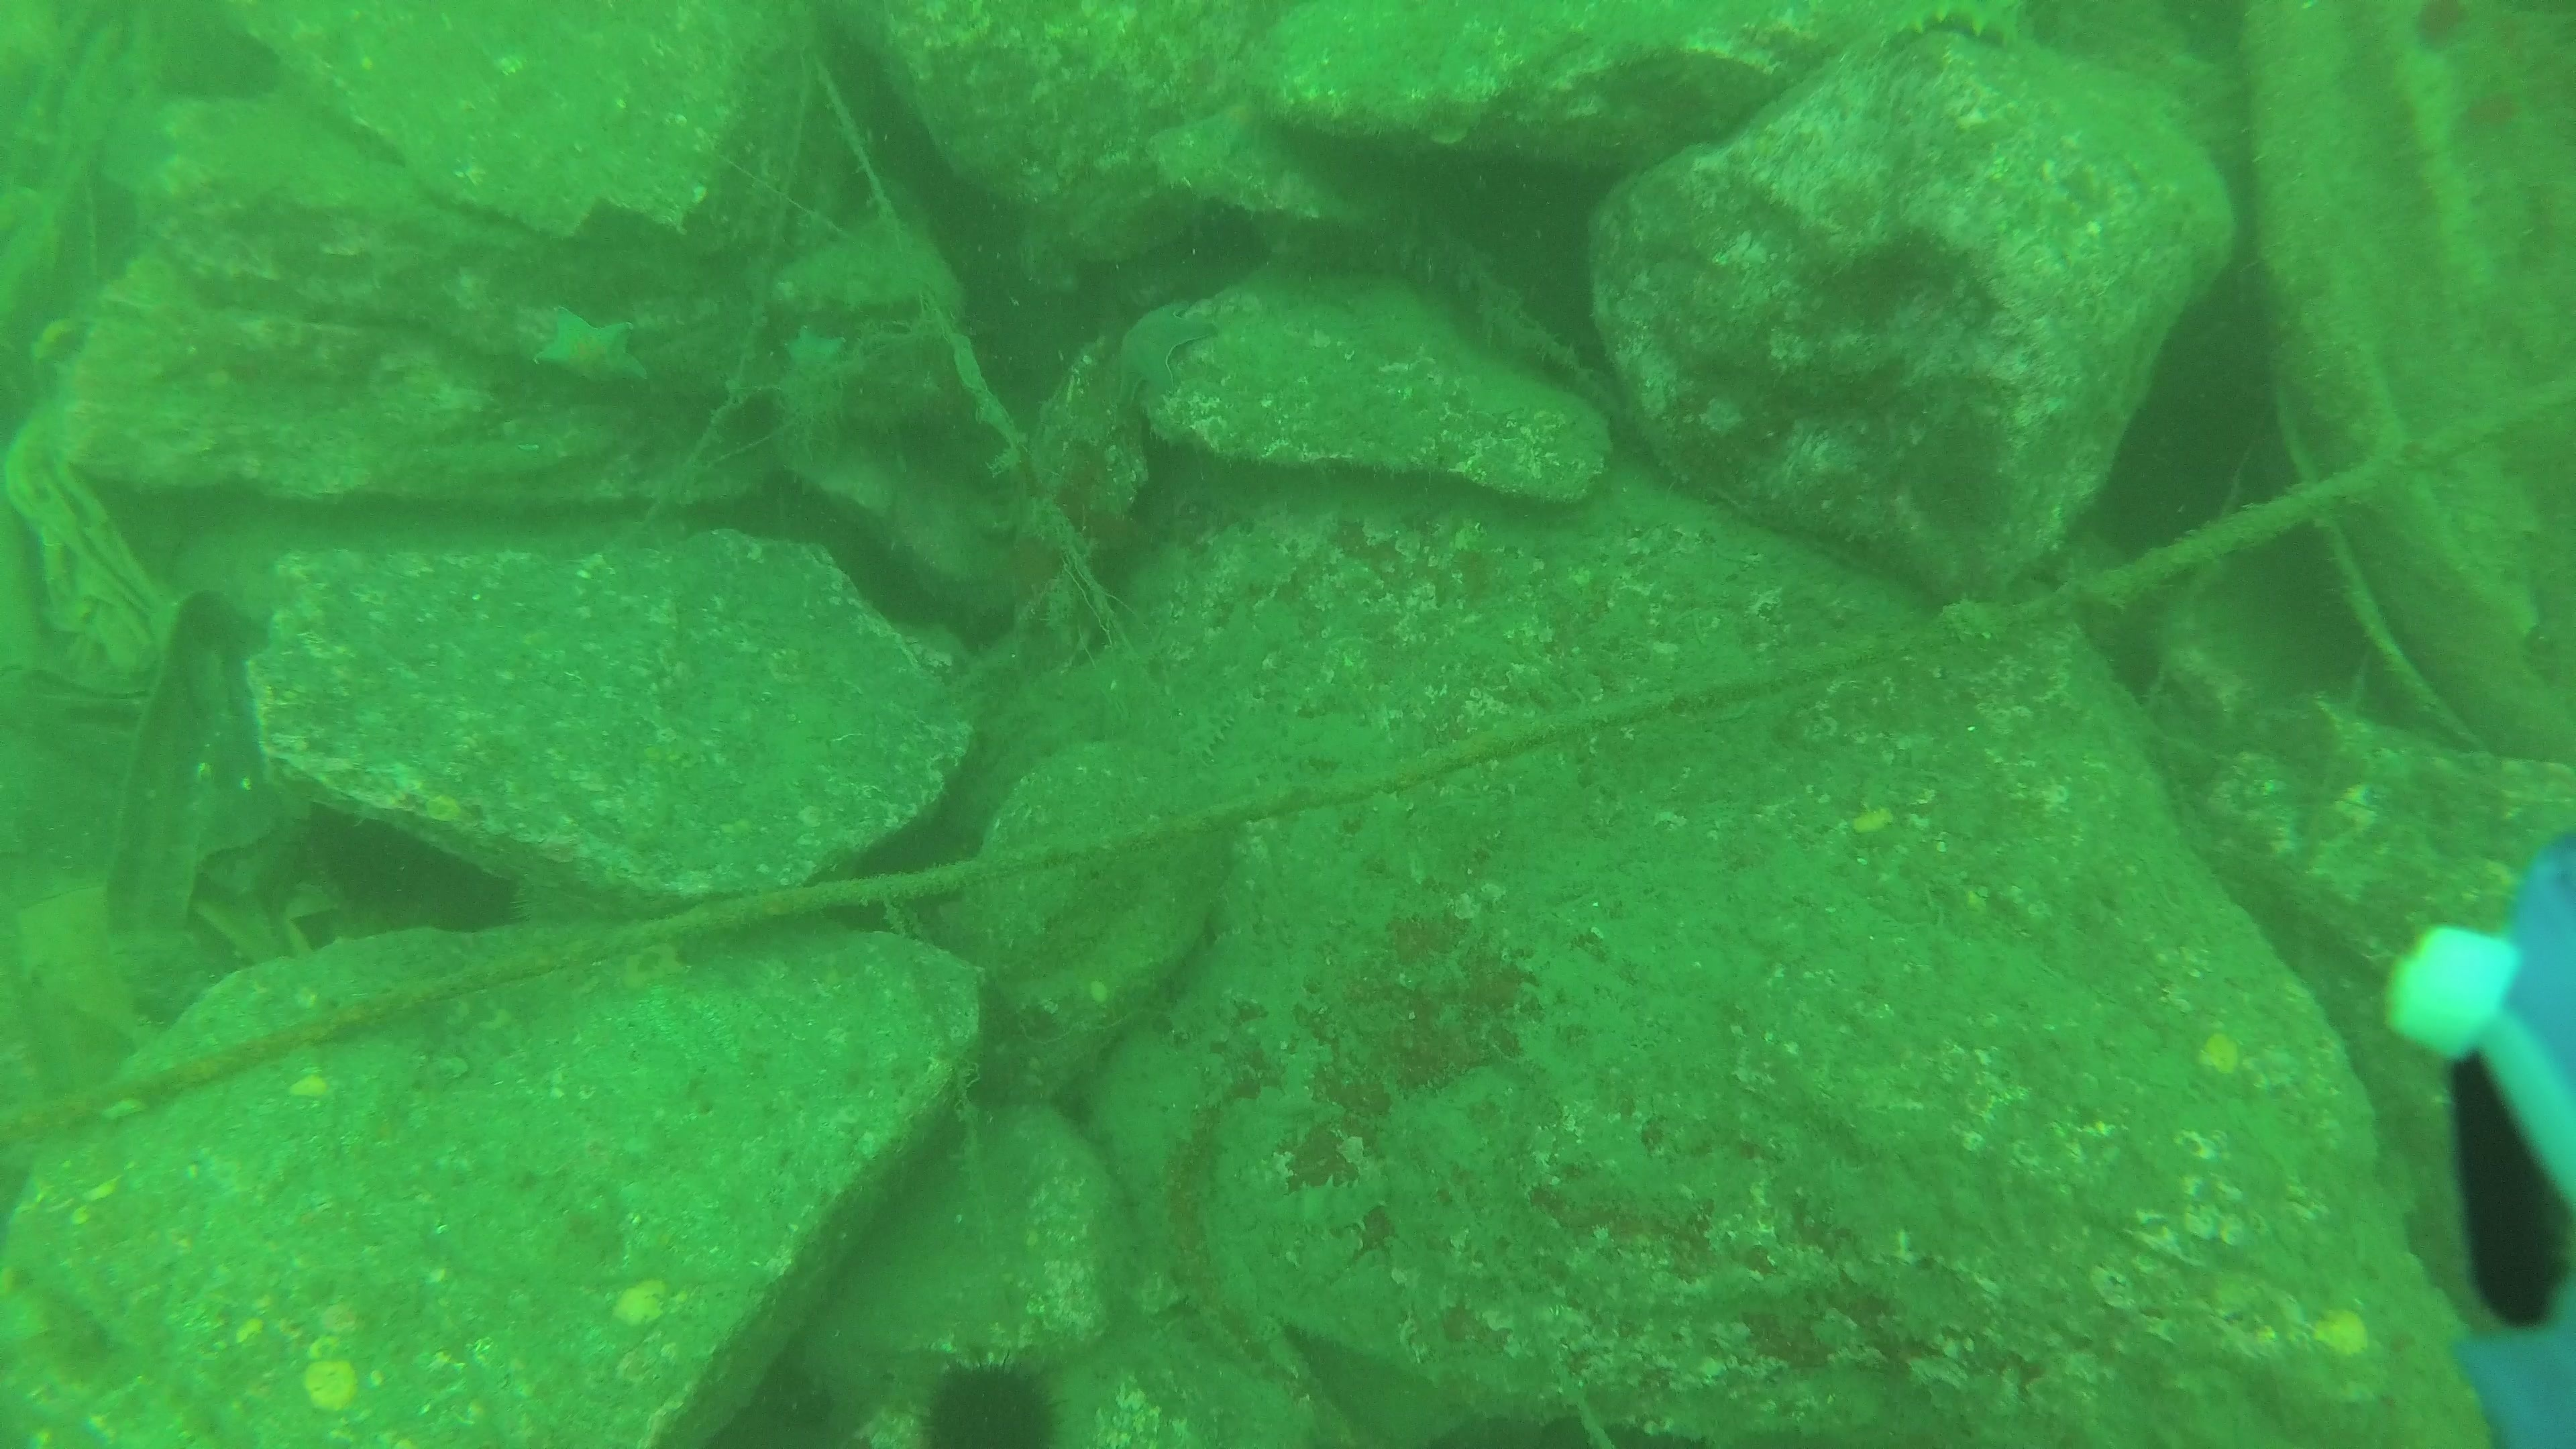echinus: (904, 1345, 1072, 1449)
holothurian: (1854, 0, 2040, 69)
starfish: (520, 297, 656, 398), (1108, 299, 1221, 416), (777, 317, 853, 380)
